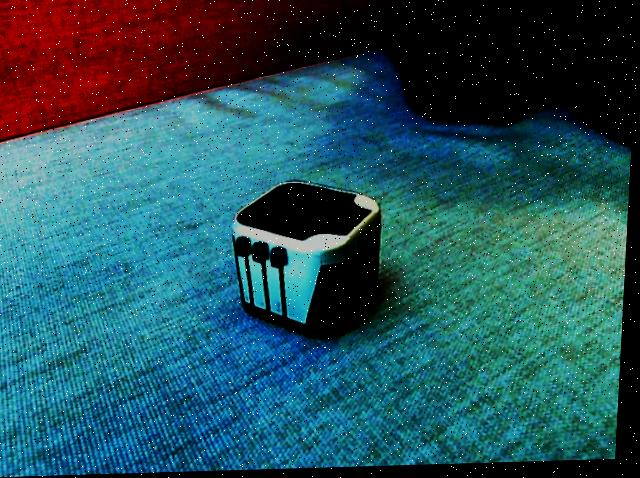adapter: (228, 181, 386, 342)
